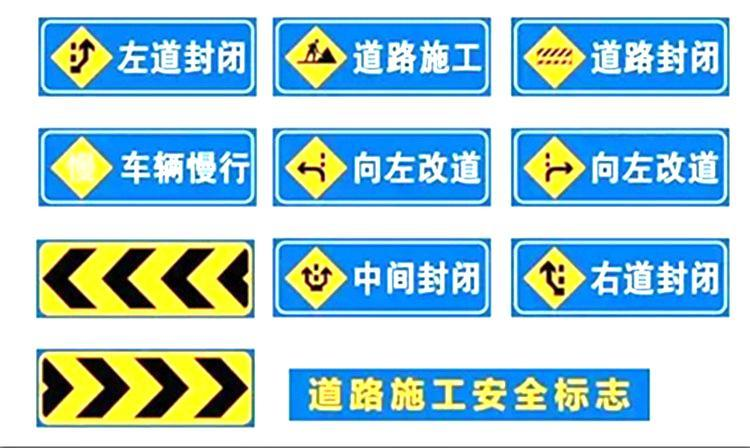sign: (38, 15, 256, 95), (274, 238, 490, 318), (273, 20, 491, 97), (513, 19, 730, 96), (37, 131, 254, 208), (39, 240, 252, 318), (513, 240, 728, 317), (511, 130, 727, 205), (272, 130, 489, 204), (39, 353, 253, 427)
